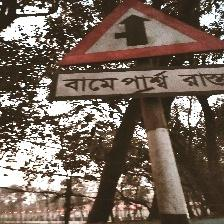Side-road-left: (53, 0, 224, 104)
